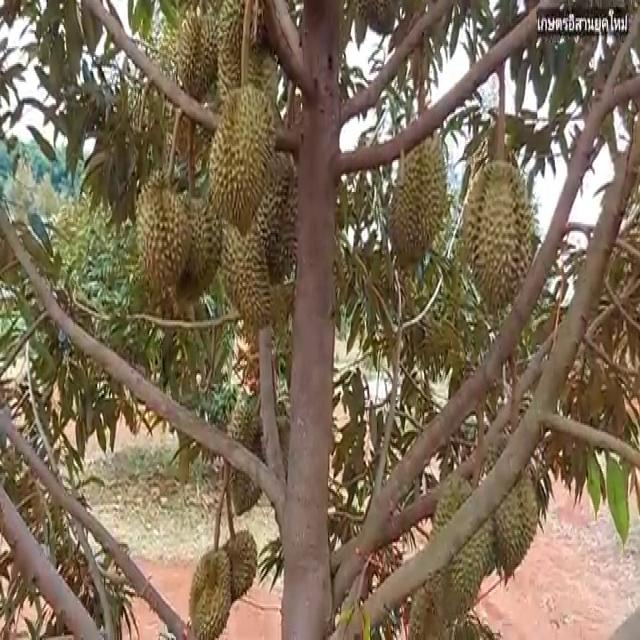durian: (459, 147, 536, 320), (202, 80, 276, 241), (381, 118, 453, 274), (207, 178, 274, 337), (430, 461, 494, 617), (476, 432, 538, 584), (129, 168, 196, 301), (154, 184, 222, 310), (241, 147, 299, 280), (217, 394, 272, 520), (211, 0, 280, 98), (172, 8, 220, 110), (186, 542, 234, 634), (214, 529, 263, 599)
